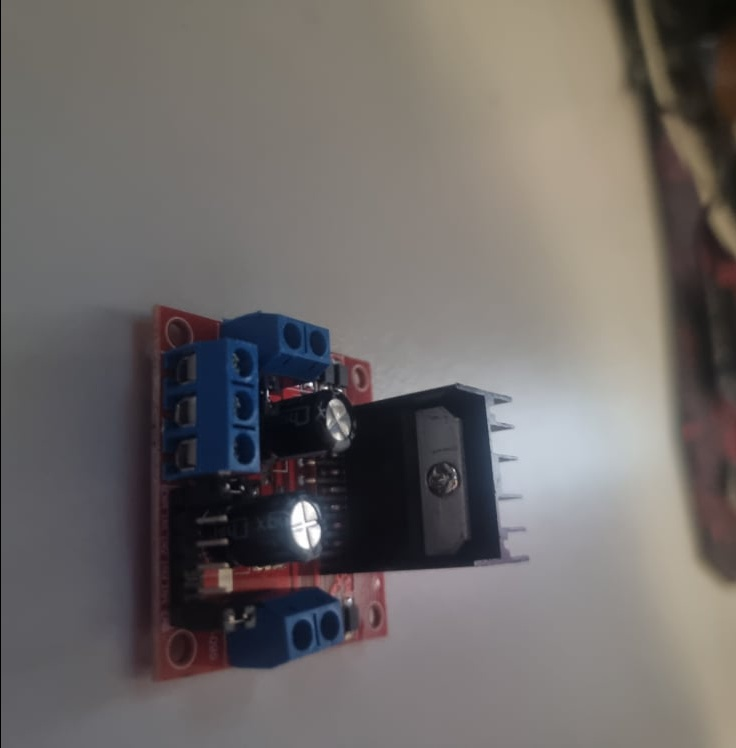MOTOR: (144, 306, 528, 685)
